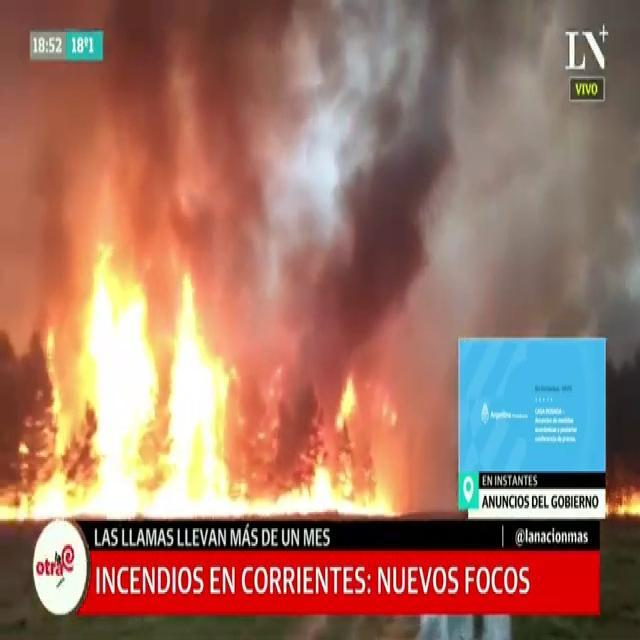Fire: (33, 311, 69, 524), (606, 473, 640, 521), (334, 370, 354, 430), (214, 358, 238, 407), (178, 261, 198, 317), (1, 486, 30, 522), (276, 484, 304, 517), (67, 480, 91, 518), (318, 454, 331, 512), (233, 479, 250, 512), (342, 457, 354, 494)
Smoke: (410, 0, 469, 166), (310, 0, 351, 123)
